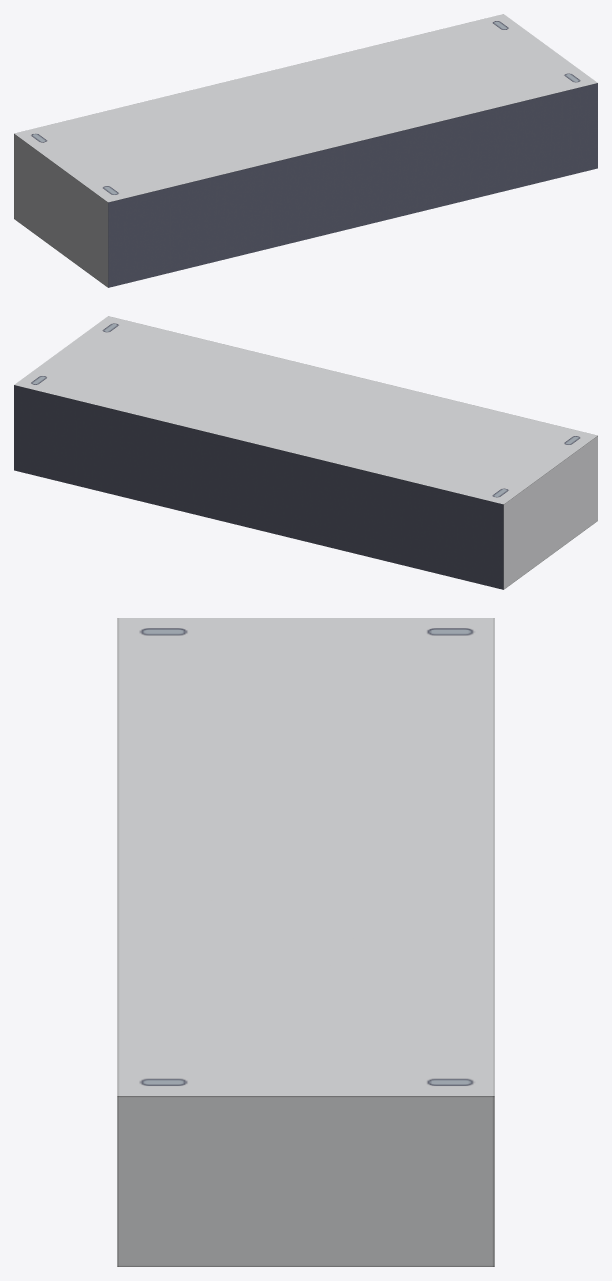
File: Roof_Tinny_01.FBX
3 views of the same model, one above another, from view 1: azimuth 30°, elevation 25°; view 2: azimuth 150°, elevation 25°; view 3: azimuth 270°, elevation 25° (orthographic). The views are drawn at different scales.
Parts seen in each view (by area): view 1: Roof_Tinny_01; view 2: Roof_Tinny_01; view 3: Roof_Tinny_01.
Boxes of the visible parts, bbox=[...] form: Roof_Tinny_01: bbox=[14, 14, 597, 287]; Roof_Tinny_01: bbox=[14, 316, 597, 589]; Roof_Tinny_01: bbox=[117, 618, 494, 1266].
Bounding box in the file's own units: 6 × 1 × 2.
3 materials, 3 textured.
